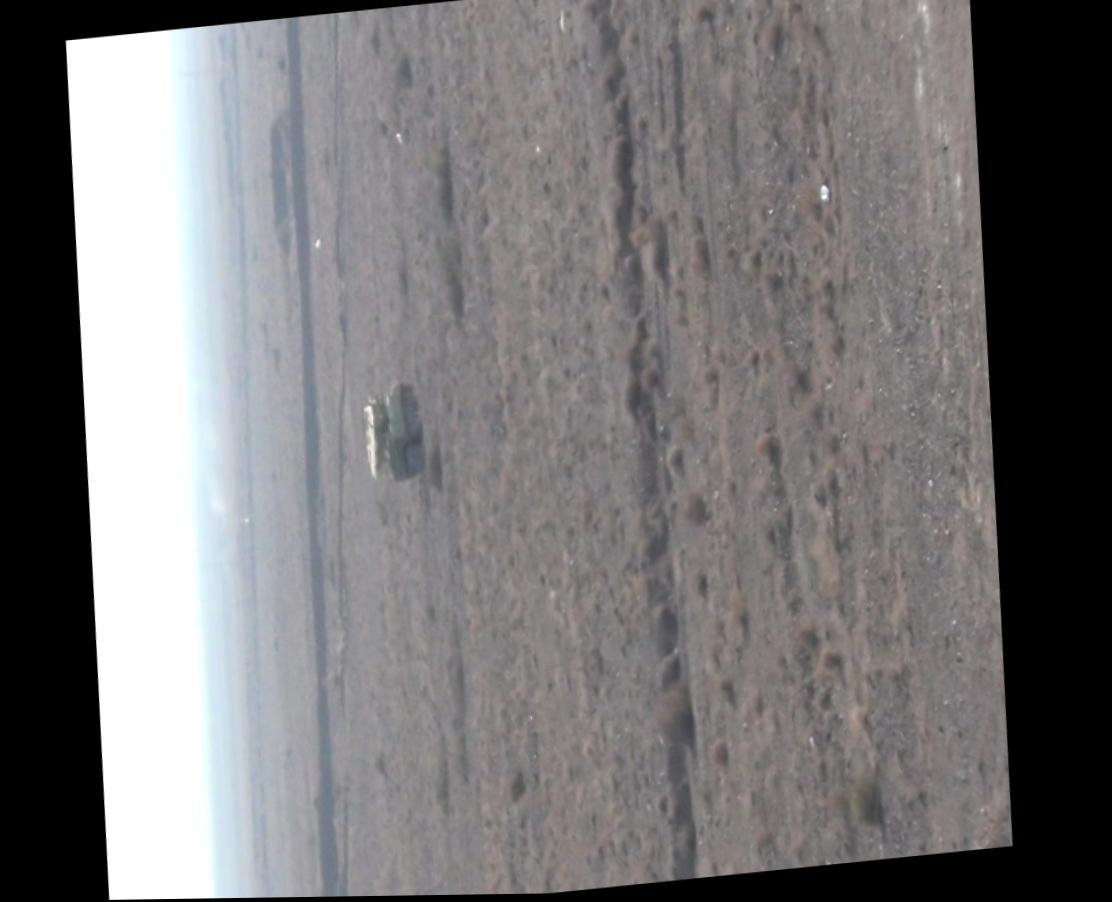armored_car: (358, 377, 430, 485)
